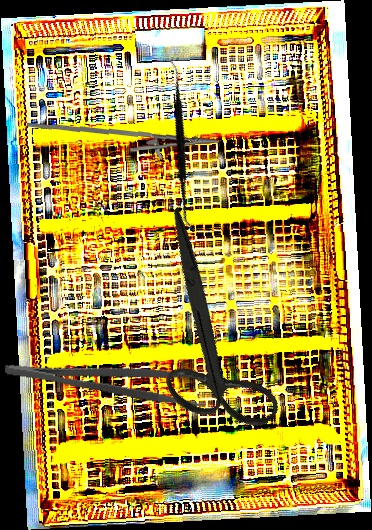Dressing Forceps: (3, 343, 209, 410)
Iris Scissors: (79, 206, 336, 457)
Needle Holder: (27, 115, 220, 165)
Spatula Surgical: (101, 57, 264, 232)
